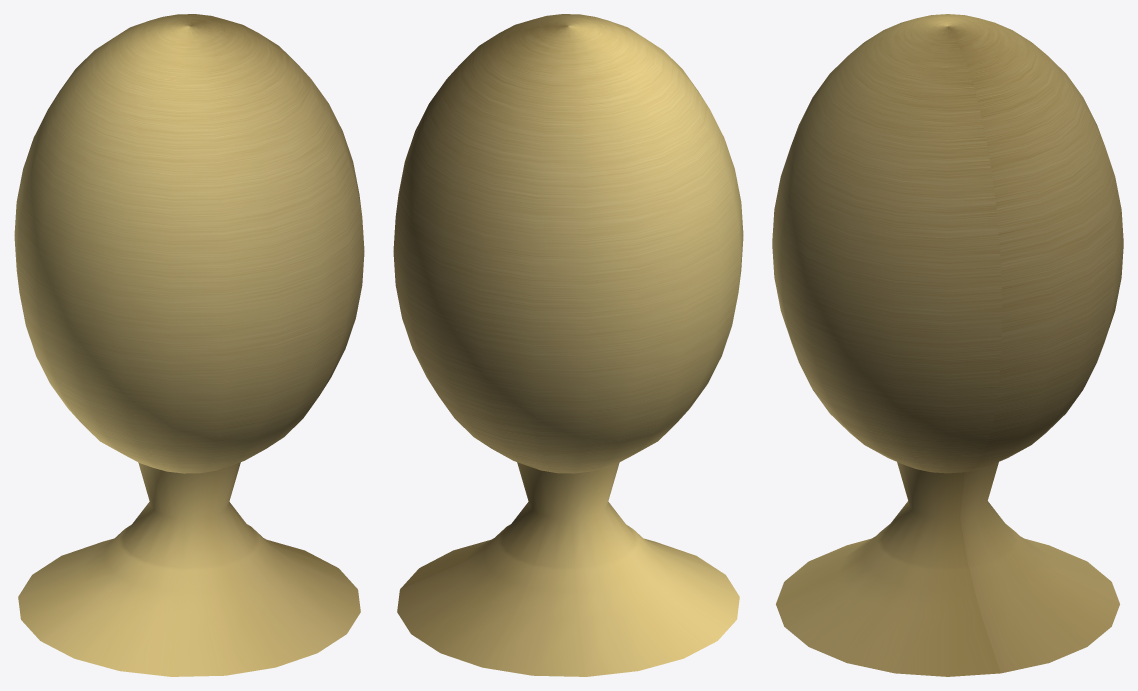
The model's file is ArtifactTest.fbx.
3 renders of one model, left to right at view 1: azimuth 30°, elevation 25°; view 2: azimuth 150°, elevation 25°; view 3: azimuth 270°, elevation 25°, orthographic.
Parts seen in each view (by area): view 1: pSphere1; view 2: pSphere1; view 3: pSphere1.
Part boxes in pixels (box(x1,y1,x2,y2)): pSphere1: box(14, 14, 364, 676); pSphere1: box(393, 14, 743, 676); pSphere1: box(772, 14, 1123, 676).
Size of the model in its own units: 2 by 3.63 by 2.
